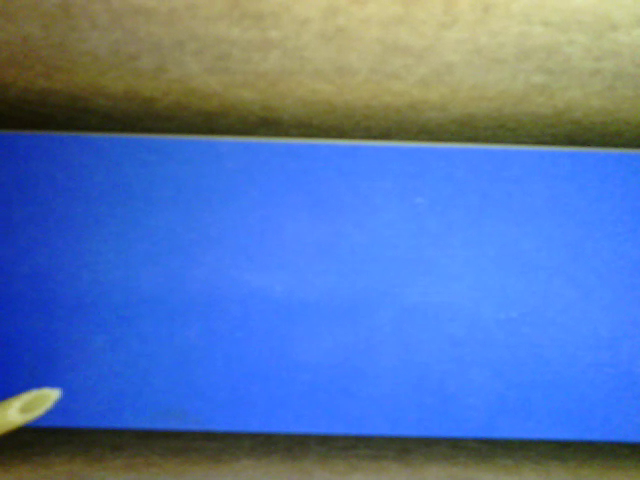penne: (1, 385, 63, 435)
